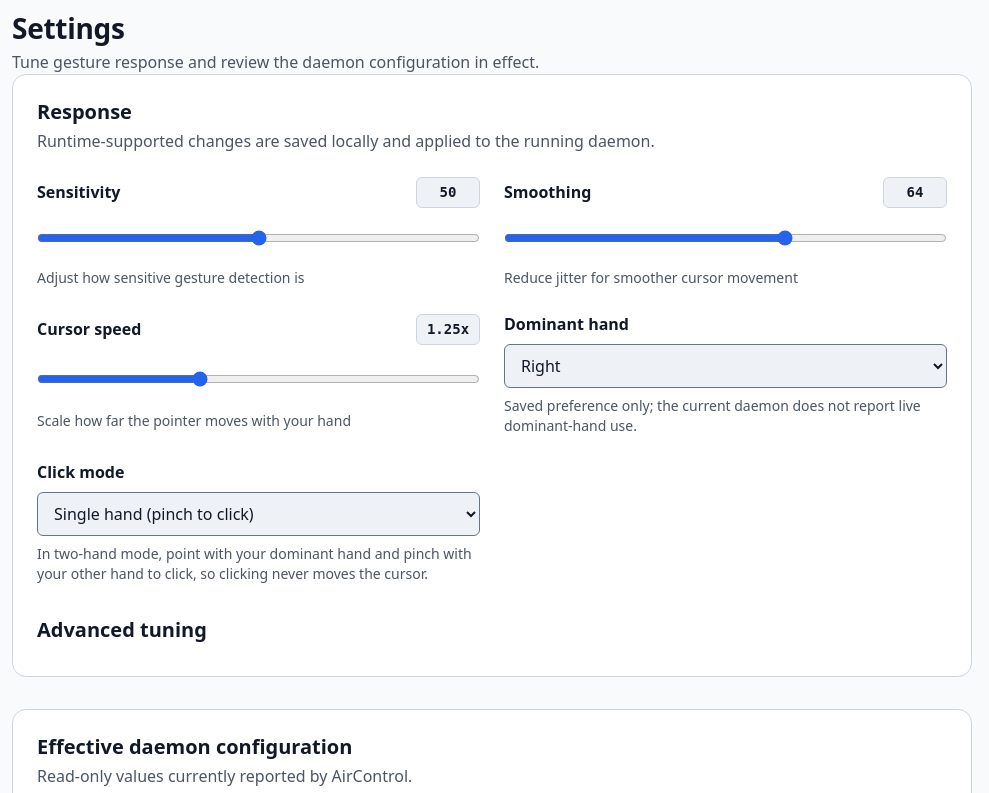
Test: application screens › keeps Advanced tuning collapsed until the user expands it
Click the heading "Advanced tuning" at (122, 629), box [37,616,207,643]
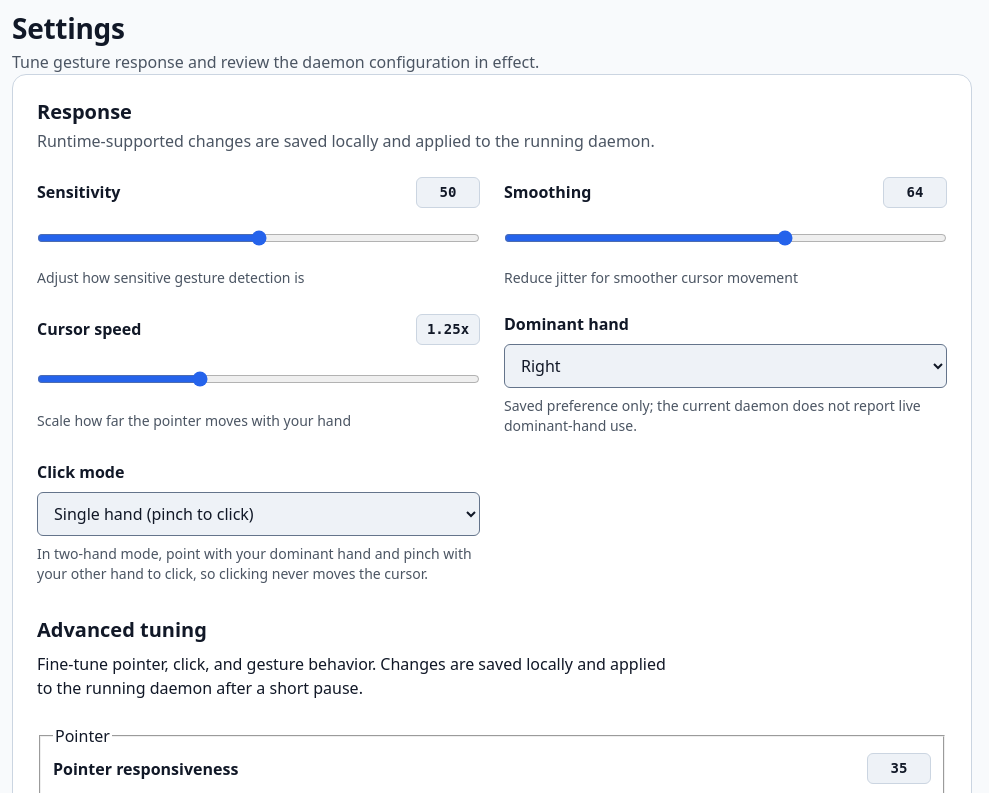
Now the label "Pointer responsiveness" is shown, box [53,757,238,781]
